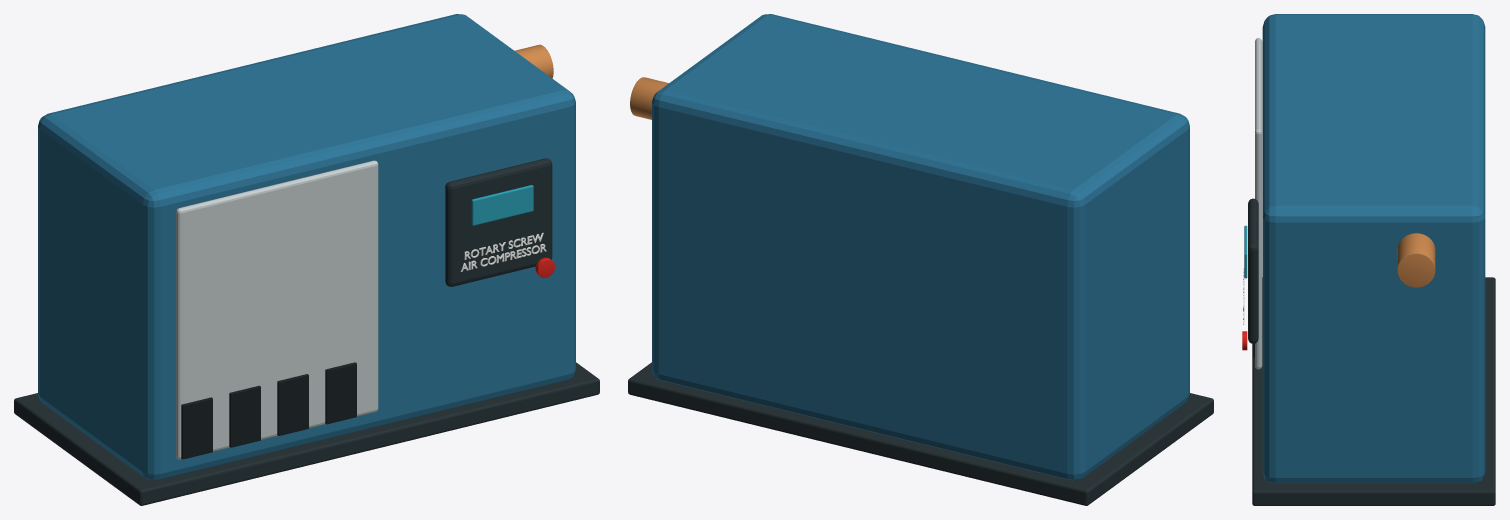
File: rotary_screw_air_compressor.glb
3 renders of one model, left to right at view 1: azimuth 30°, elevation 25°; view 2: azimuth 150°, elevation 25°; view 3: azimuth 270°, elevation 25°, orthographic. The views are drawn at different scales.
Visible parts, largest first — view 1: COMPRESSOR_CABINET, SERVICE_DOOR, BASE, CONTROL_PANEL, INLET_VENT_-0.9, INLET_VENT_-0.65, INLET_VENT_-0.4, INLET_VENT_-0.15, DISPLAY, LABEL, AIR_OUT; view 2: COMPRESSOR_CABINET, BASE, AIR_OUT; view 3: COMPRESSOR_CABINET, BASE, SERVICE_DOOR, AIR_OUT, CONTROL_PANEL.
Boxes of the visible parts, x1,y1,x2,y2 form: COMPRESSOR_CABINET: [38, 14, 575, 480]; SERVICE_DOOR: [176, 160, 378, 459]; BASE: [14, 362, 599, 505]; CONTROL_PANEL: [445, 158, 552, 286]; INLET_VENT_-0.9: [181, 397, 212, 459]; INLET_VENT_-0.65: [229, 385, 260, 447]; INLET_VENT_-0.4: [277, 374, 308, 435]; INLET_VENT_-0.15: [325, 362, 356, 424]; DISPLAY: [471, 185, 533, 225]; LABEL: [460, 232, 546, 271]; AIR_OUT: [514, 44, 553, 78]; COMPRESSOR_CABINET: [652, 14, 1189, 480]; BASE: [628, 362, 1213, 505]; AIR_OUT: [630, 77, 668, 119]; COMPRESSOR_CABINET: [1262, 14, 1485, 483]; BASE: [1252, 277, 1495, 505]; SERVICE_DOOR: [1255, 38, 1262, 369]; AIR_OUT: [1397, 233, 1435, 287]; CONTROL_PANEL: [1248, 198, 1258, 343].
Bounding box in the file's own units: 2.55 × 1.5 × 1.2.
